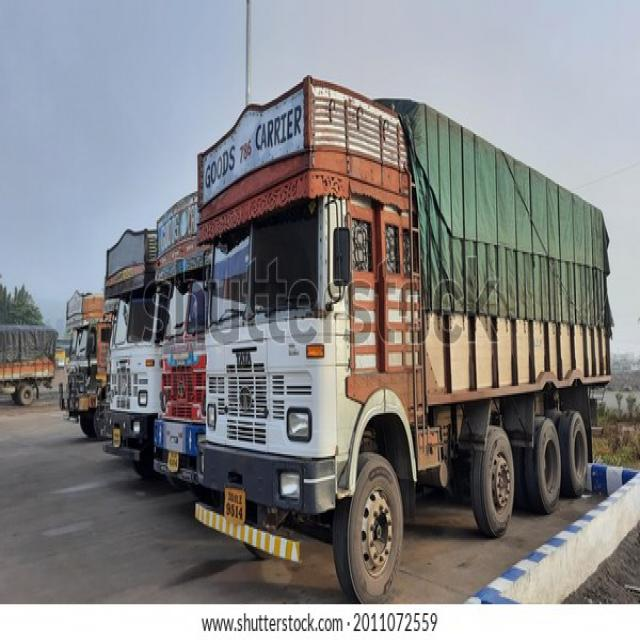Truck: (198, 105, 607, 601)
